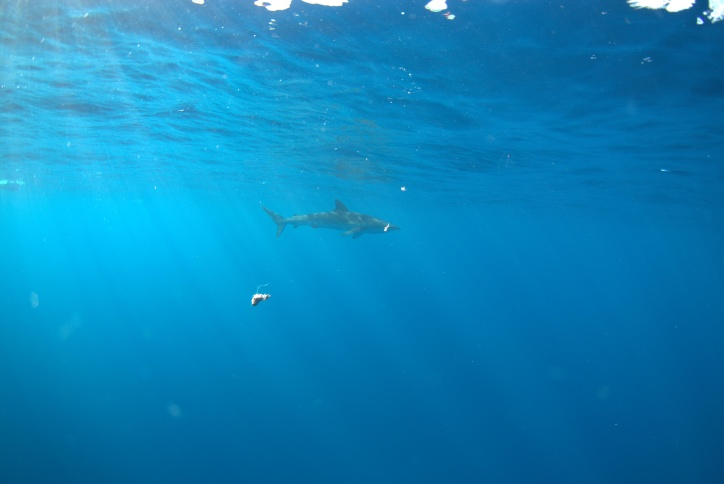Sedoso: (253, 191, 406, 248)
